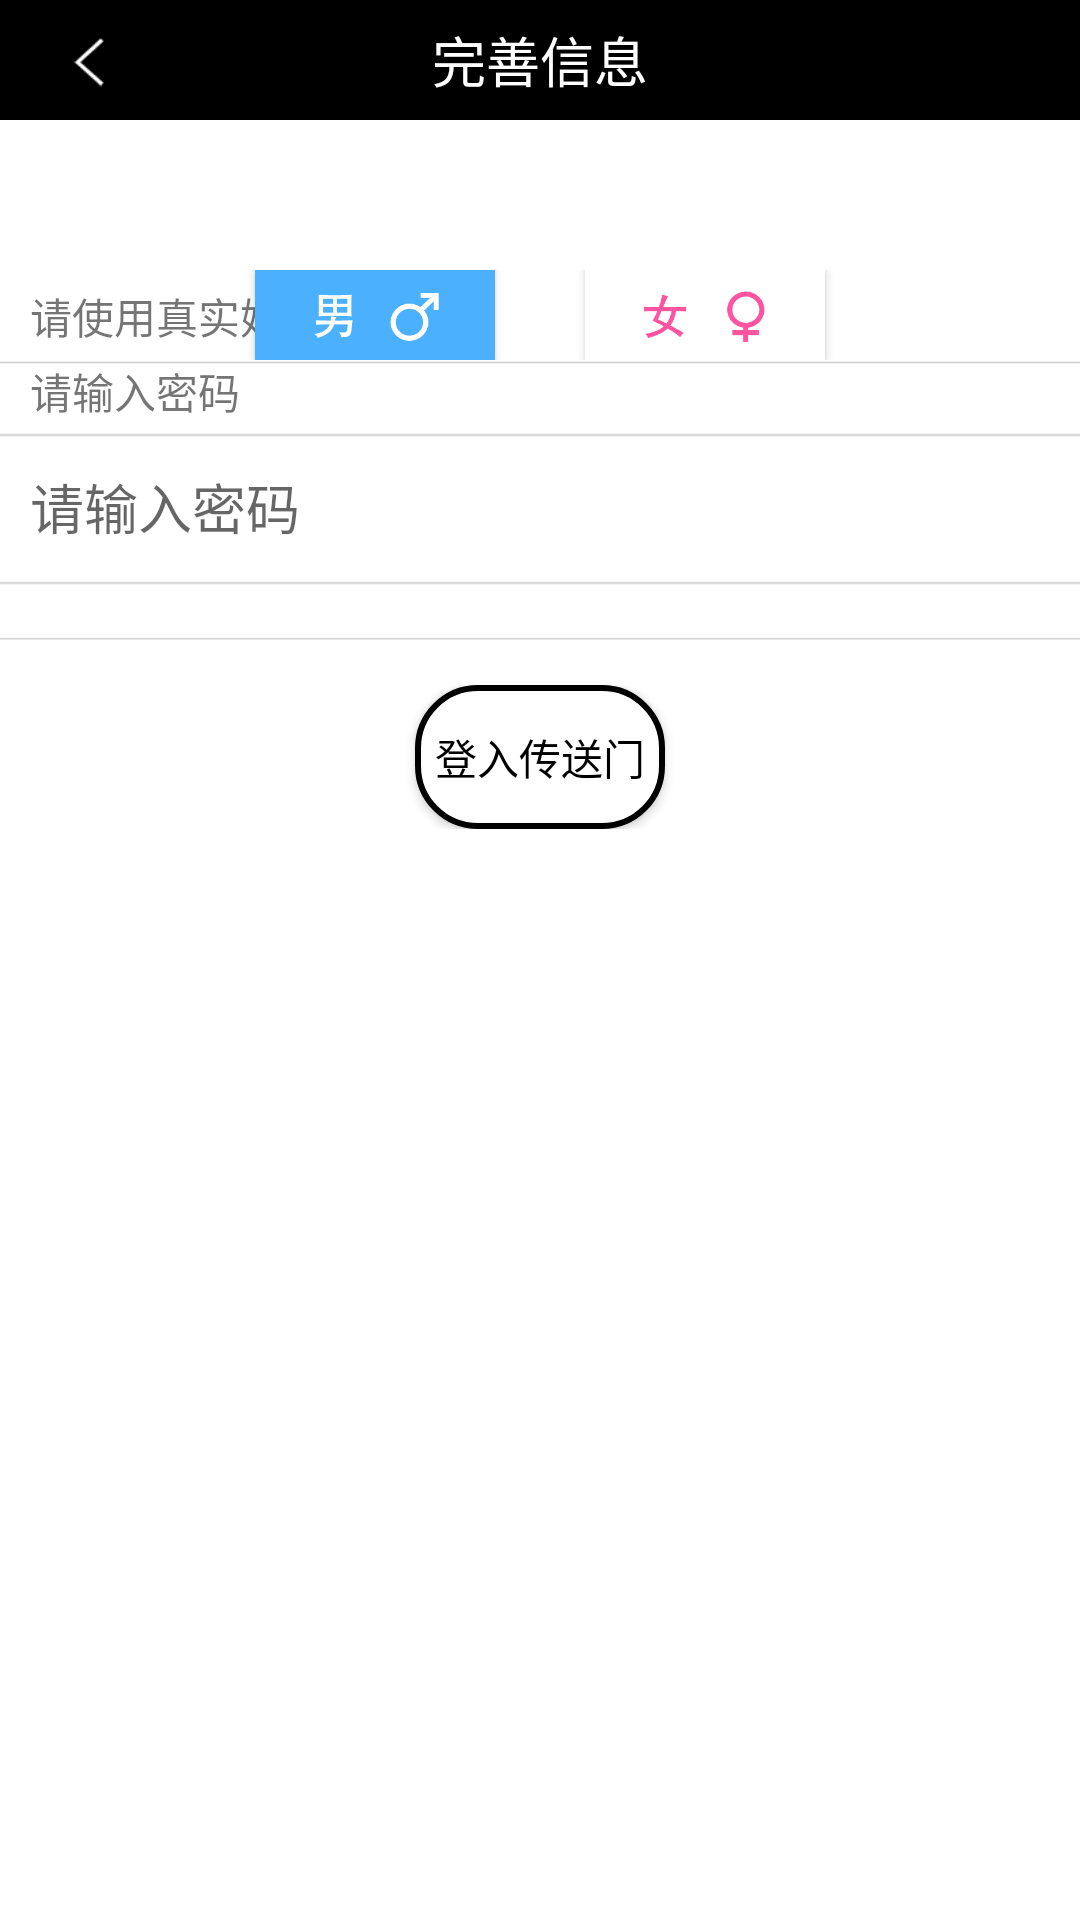

Screen size 1080 x 1920. Icon name, then its box in pixels as (x1,y1,x2,y2):
arrow back: (74,38,104,87)
